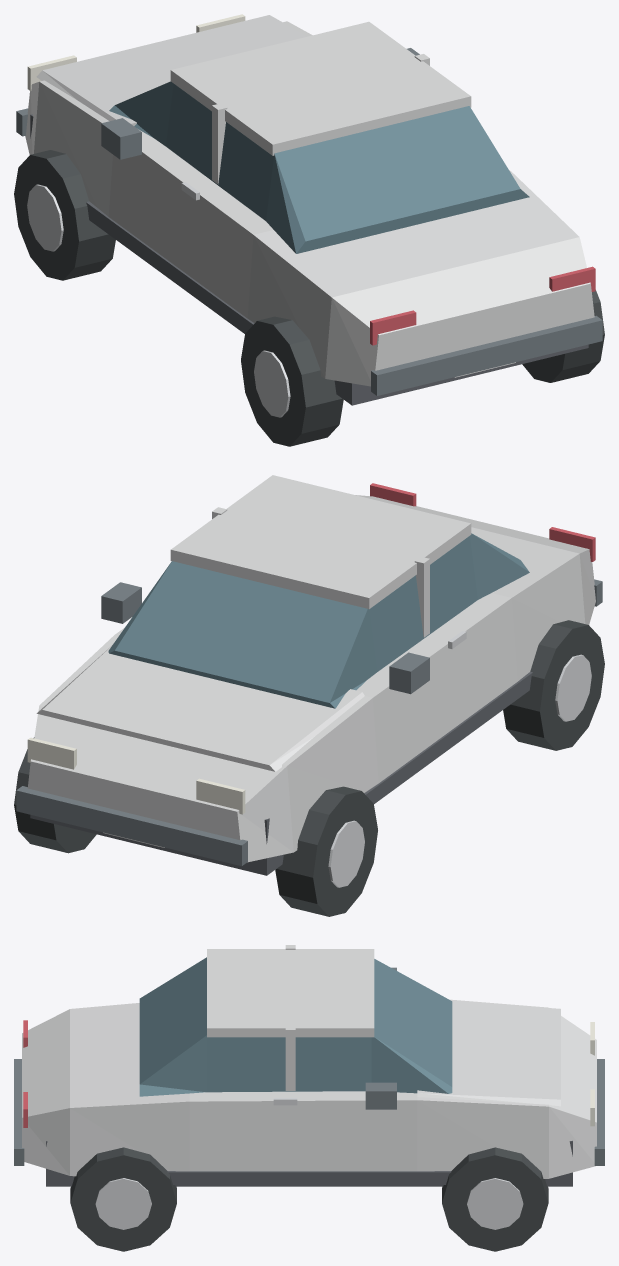
The model's file is palio.glb.
The picture shows the model from 3 angles, top to bottom: view 1: azimuth 30°, elevation 25°; view 2: azimuth 150°, elevation 25°; view 3: azimuth 270°, elevation 25°; orthographic projection. The views are drawn at different scales.
Visible parts, largest first — view 1: body_0001, cab_glass_0022, roof_0023, hood_0002, wheel_tire_0006, wheel_tire_0004, bumper_0027, lower_sill_0012, wheel_tire_0015, wheel_rim_0005, wheel_rim_0007, chassis_0000 (+4 smaller); view 2: body_0001, cab_glass_0022, roof_0023, hood_0002, wheel_tire_0004, wheel_tire_0006, bumper_0026, lower_sill_0012, wheel_tire_0013, wheel_rim_0005, wheel_rim_0007, chassis_0000 (+7 smaller); view 3: body_0001, cab_glass_0022, roof_0023, hood_0002, wheel_tire_0015, wheel_tire_0013, lower_sill_0021, wheel_rim_0014, wheel_rim_0016, chassis_0000, bumper_0026, bumper_0027 (+2 smaller).
Part boxes in pixels (x1,y1,x2,y2): body_0001: [25, 21, 594, 386]; cab_glass_0022: [109, 81, 529, 253]; roof_0023: [170, 21, 471, 155]; hood_0002: [36, 15, 307, 125]; wheel_tire_0006: [241, 316, 343, 446]; wheel_tire_0004: [14, 150, 115, 280]; bumper_0027: [371, 315, 602, 395]; lower_sill_0012: [86, 201, 254, 333]; wheel_tire_0015: [522, 290, 604, 382]; wheel_rim_0005: [27, 184, 63, 251]; wheel_rim_0007: [254, 350, 290, 417]; chassis_0000: [30, 114, 588, 405]; body_0001: [27, 495, 595, 862]; cab_glass_0022: [108, 533, 529, 708]; roof_0023: [170, 475, 471, 609]; hood_0002: [36, 645, 364, 771]; wheel_tire_0004: [275, 786, 377, 916]; wheel_tire_0006: [503, 620, 604, 750]; bumper_0026: [16, 786, 247, 866]; lower_sill_0012: [364, 671, 532, 803]; wheel_tire_0013: [14, 737, 96, 853]; wheel_rim_0005: [328, 820, 364, 887]; wheel_rim_0007: [555, 654, 591, 721]; chassis_0000: [30, 814, 283, 875]; body_0001: [22, 999, 596, 1178]; cab_glass_0022: [139, 957, 452, 1096]; roof_0023: [207, 949, 374, 1037]; hood_0002: [417, 1000, 560, 1106]; wheel_tire_0015: [70, 1147, 176, 1251]; wheel_tire_0013: [442, 1147, 548, 1251]; lower_sill_0021: [167, 1171, 451, 1184]; wheel_rim_0014: [467, 1178, 523, 1229]; wheel_rim_0016: [95, 1178, 151, 1229]; chassis_0000: [46, 1140, 572, 1186]; bumper_0026: [594, 1059, 604, 1165]; bumper_0027: [14, 1059, 24, 1165].
Bounding box in the file's own units: 1.87 × 1.44 × 3.77.
